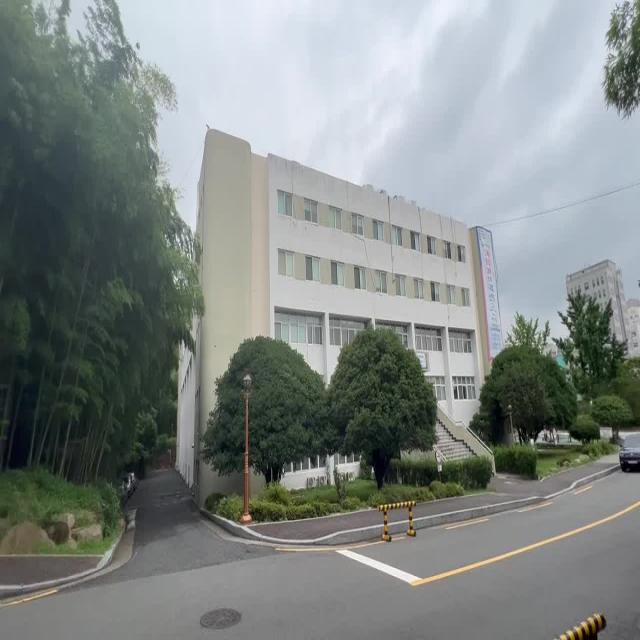building: (188, 124, 480, 320)
